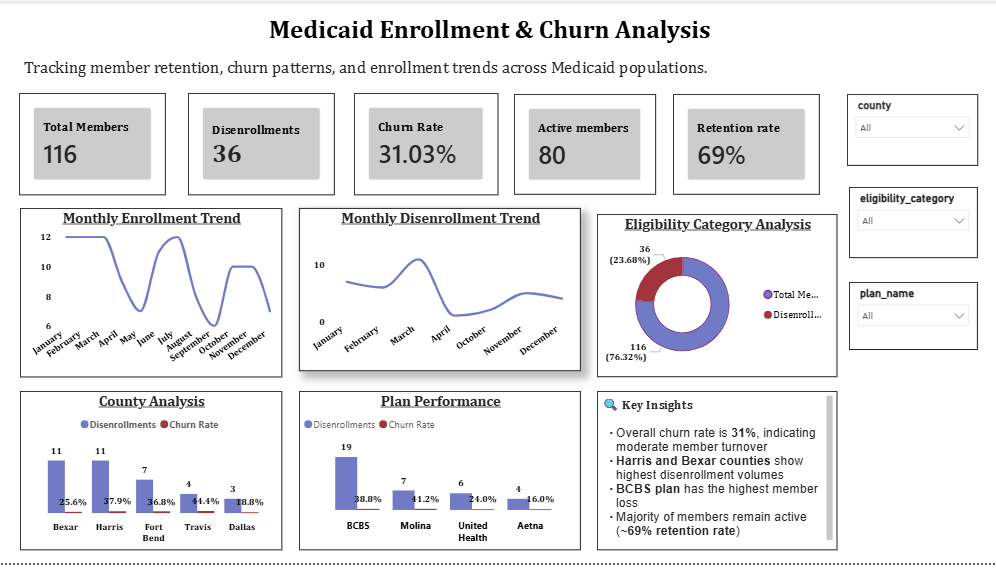

What the dashboard file says about the page in this screenshot:
{"tool":"powerbi","page":{"name":"Page 1","canvas":[1280,720],"ordinal":0},"visuals":[{"type":"cardVisual","fields":{"Data":["enrollment_history.Total Members"]},"box":[27.9,108,191.7,131.3],"z":0},{"type":"cardVisual","fields":{"Data":["enrollment_history.Total Enrollment"]},"box":[228.8,108,195.1,131.3],"z":1000},{"type":"cardVisual","fields":{"Data":["enrollment_history.Disenrollments"]},"box":[441.4,108,197.5,131.3],"z":2000},{"type":"cardVisual","fields":{"Data":["enrollment_history.Churn Rate"]},"box":[649.3,108,195.1,131.3],"z":3000},{"type":"cardVisual","fields":{"Data":["enrollment_history.Active members"]},"box":[854.9,108,183.5,131.3],"z":4000},{"type":"lineChart","title":"Monthly Enrollment Trend","fields":{"Category":["enrollment_history.enrollment_date.Variation.Date Hierarchy.Month"],"Y":["enrollment_history.Total Enrollment"]},"box":[27.9,264.8,335.7,217.2],"z":5000},{"type":"lineChart","title":"Monthly Disenrollment Trend","fields":{"Category":["enrollment_history.disenrollment_date.Variation.Date Hierarchy.Month"],"Y":["enrollment_history.Total Enrollment"]},"box":[385.6,264.8,361.2,209.1],"z":6000},{"type":"clusteredColumnChart","title":"County Analysis","fields":{"Category":["members.county"],"Y":["enrollment_history.Disenrollments","enrollment_history.Churn Rate"]},"box":[27.9,499.5,335.7,204.4],"z":7000},{"type":"clusteredColumnChart","title":"Plan Performance","fields":{"Category":["members.plan_name"],"Y":["enrollment_history.Disenrollments","enrollment_history.Churn Rate"]},"box":[385.6,499.5,361.2,204.4],"z":8000},{"type":"donutChart","title":"Eligibility Category Analysis","fields":{"Y":["CountNonNull(members.eligibility_category)","enrollment_history.Disenrollments"]},"box":[767.8,273,307.8,209.1],"z":9000},{"type":"slicer","fields":{"Values":["members.county"]},"box":[1102.3,268.3,167.3,91.8],"z":10000},{"type":"slicer","fields":{"Values":["members.eligibility_category"]},"box":[1102.3,383.3,164.9,90.6],"z":11000},{"type":"slicer","fields":{"Values":["members.plan_name"]},"box":[1102.3,499.5,164.9,87.1],"z":12000},{"type":"textbox","box":[342.6,12.8,592.4,53.4],"z":13000},{"type":"cardVisual","fields":{"Data":["enrollment_history.Net Growth"]},"box":[1058.1,108,211.4,131.3],"z":14000},{"type":"textbox","box":[767.8,499.5,307.8,204.4],"z":15000},{"type":"textbox","box":[27.9,66.2,928.1,41.8],"z":15001}]}

Visuals, with their boxes in screenshot pixels (x1, y1, x2, y2), scaled from the page's 1280x720 canvas onto the 996x576 screenshot:
cardVisual - enrollment_history.Total Members: box=[22, 86, 171, 191]
cardVisual - enrollment_history.Total Enrollment: box=[178, 86, 330, 191]
cardVisual - enrollment_history.Disenrollments: box=[343, 86, 497, 191]
cardVisual - enrollment_history.Churn Rate: box=[505, 86, 657, 191]
cardVisual - enrollment_history.Active members: box=[665, 86, 808, 191]
"Monthly Enrollment Trend" lineChart: box=[22, 212, 283, 386]
"Monthly Disenrollment Trend" lineChart: box=[300, 212, 581, 379]
"County Analysis" clusteredColumnChart: box=[22, 400, 283, 563]
"Plan Performance" clusteredColumnChart: box=[300, 400, 581, 563]
"Eligibility Category Analysis" donutChart: box=[597, 218, 837, 386]
slicer - members.county: box=[858, 215, 988, 288]
slicer - members.eligibility_category: box=[858, 307, 986, 379]
slicer - members.plan_name: box=[858, 400, 986, 469]
textbox: box=[267, 10, 728, 53]
cardVisual - enrollment_history.Net Growth: box=[823, 86, 988, 191]
textbox: box=[597, 400, 837, 563]
textbox: box=[22, 53, 744, 86]
